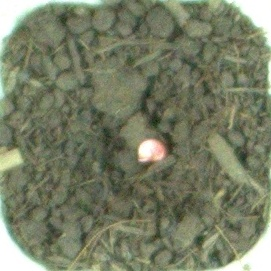chilli seed: (136, 138, 167, 163)
